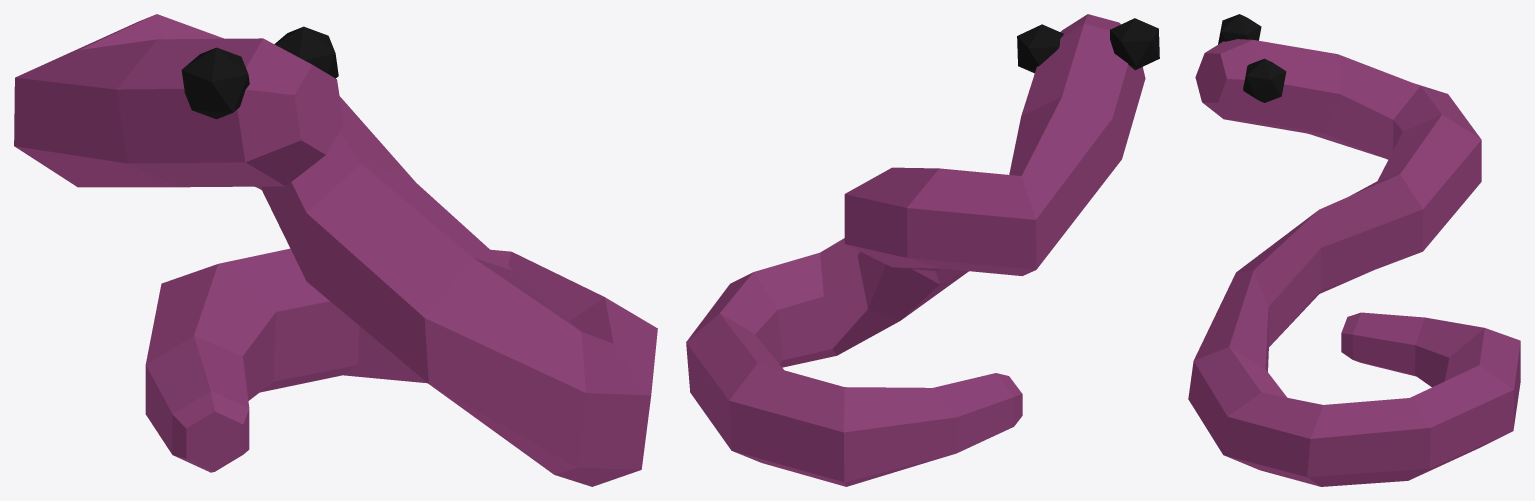
Rendered from worm.glb.
3 renders of one model, left to right at view 1: azimuth 30°, elevation 25°; view 2: azimuth 150°, elevation 25°; view 3: azimuth 270°, elevation 25°, orthographic. The views are drawn at different scales.
Parts seen in each view (by area): view 1: Worm; view 2: Worm; view 3: Worm.
Part boxes in pixels (left/top/right/bottom): Worm: left=14, top=14, right=657, bottom=486; Worm: left=686, top=14, right=1159, bottom=486; Worm: left=1188, top=14, right=1520, bottom=486.
Size of the model in its own units: 1.89 by 1.85 by 1.65.
